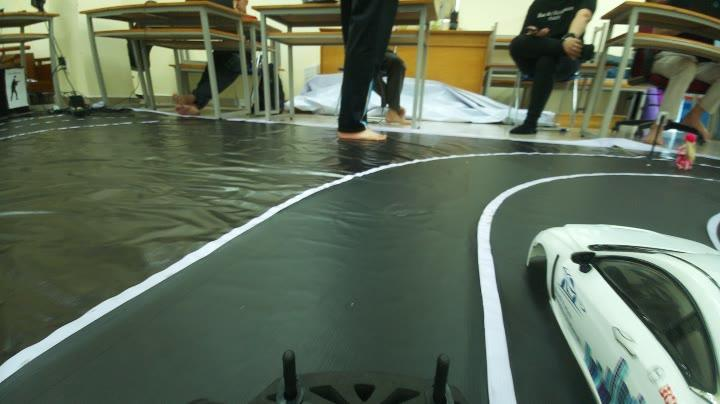car: (511, 197, 720, 404)
